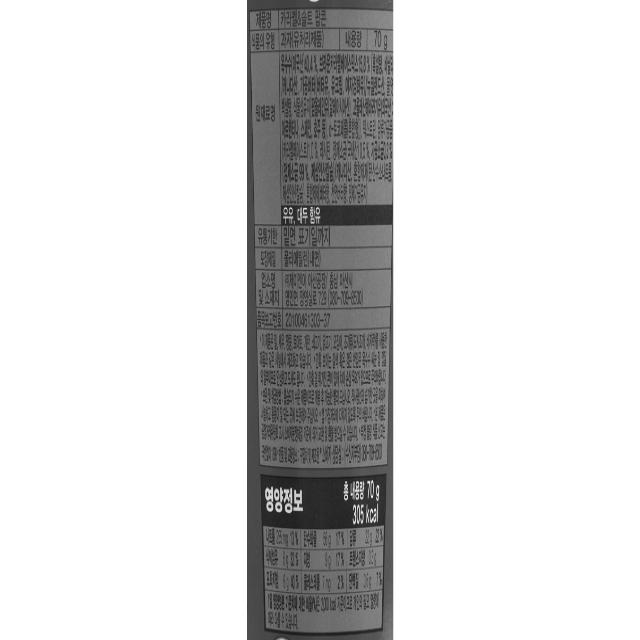Nutrition Label: (254, 458, 388, 640)
